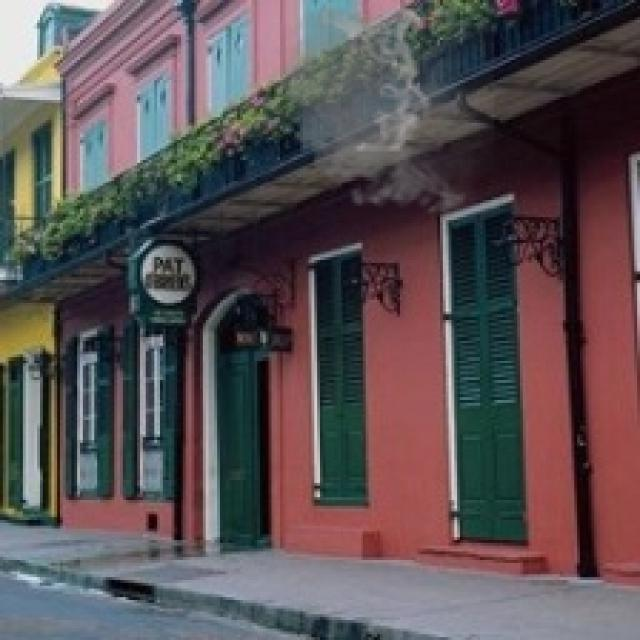Smoke: (260, 0, 494, 220)
